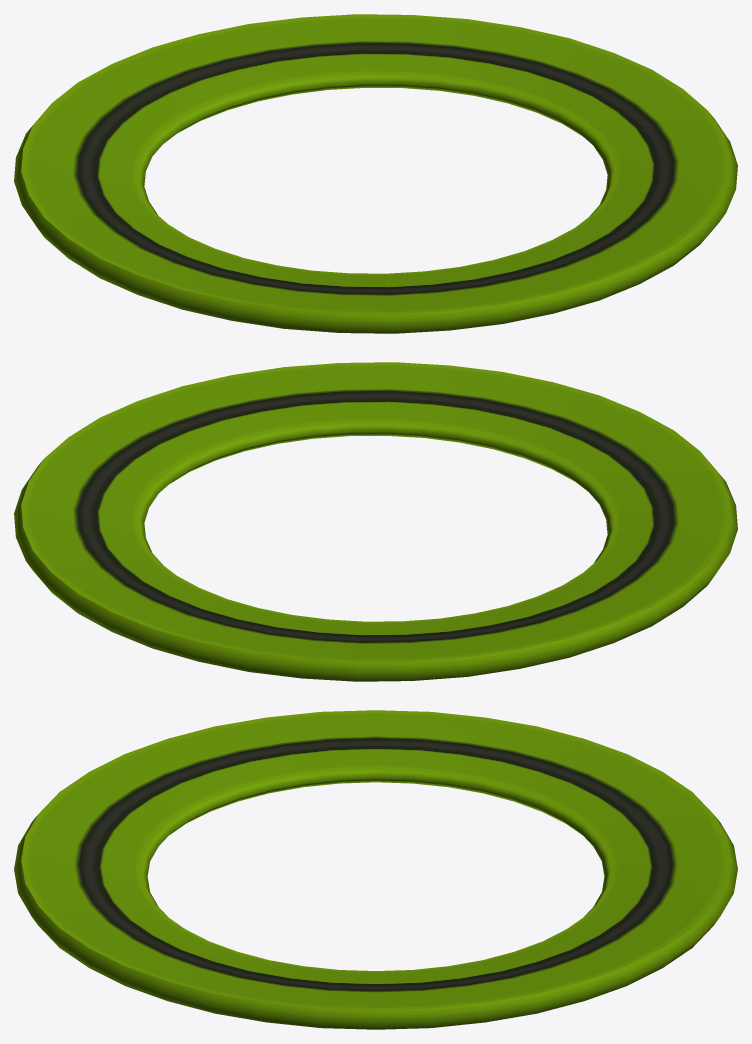
Rendered from Frisbee_Green_Scaled.fbx.
3 renders of one model, top to bottom at view 1: azimuth 30°, elevation 25°; view 2: azimuth 150°, elevation 25°; view 3: azimuth 270°, elevation 25°, orthographic.
Parts seen in each view (by area): view 1: Frisbee3; view 2: Frisbee3; view 3: Frisbee3.
Part boxes in pixels (box(x1,y1,x2,y2)): Frisbee3: box(14, 14, 737, 333); Frisbee3: box(14, 362, 737, 681); Frisbee3: box(14, 710, 737, 1029).
Size of the model in its own units: 41.46 by 1.49 by 41.46.
